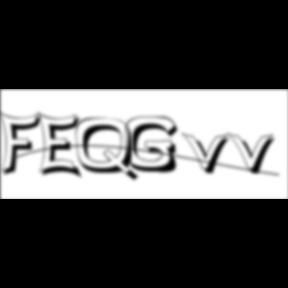E: (38, 110, 86, 182)
F: (0, 110, 48, 178)
G: (125, 116, 184, 176)
Q: (76, 117, 142, 184)
v: (182, 131, 236, 177), (228, 131, 282, 177)
